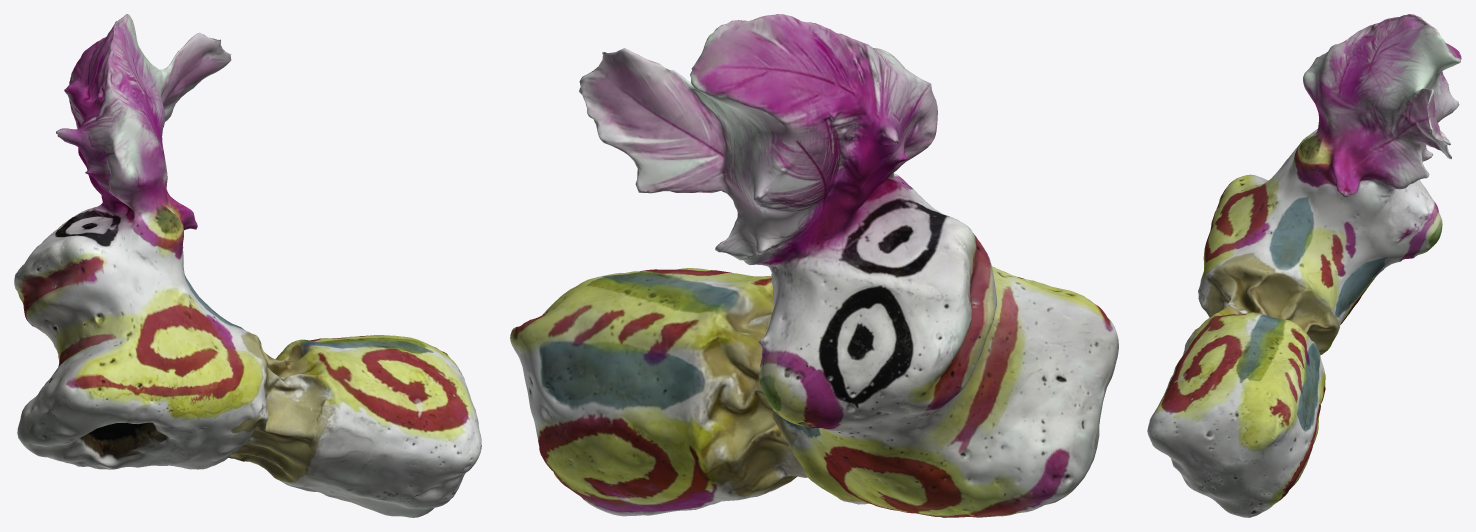
The picture shows the model from 3 angles, left to right: view 1: azimuth 30°, elevation 25°; view 2: azimuth 150°, elevation 25°; view 3: azimuth 270°, elevation 25°; orthographic projection. The views are drawn at different scales.
Size of the model in its own units: 0.6361 by 0.676 by 0.4655.
Materials: 1 (1 with a texture image).
